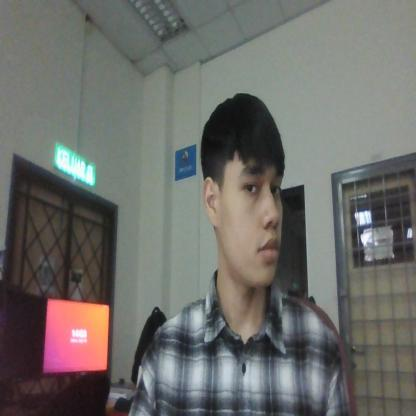Open-Eyes: (239, 163, 286, 208)
